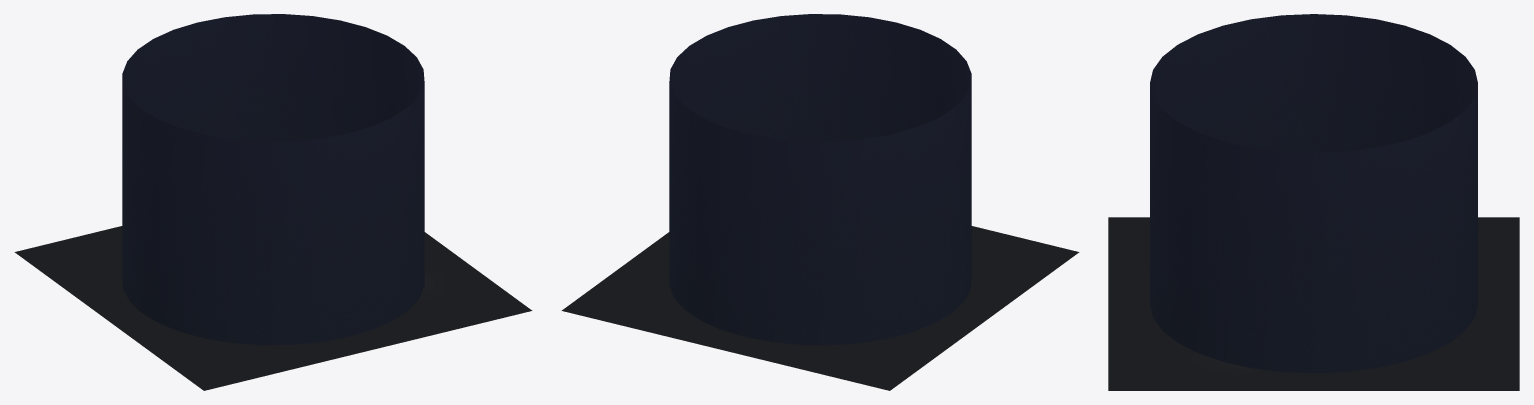
Rendered from dark.glb.
The picture shows the model from 3 angles, left to right: view 1: azimuth 30°, elevation 25°; view 2: azimuth 150°, elevation 25°; view 3: azimuth 270°, elevation 25°; orthographic projection. The views are drawn at different scales.
Parts seen in each view (by area): view 1: BG, Ground_Parking; view 2: BG, Ground_Parking; view 3: BG, Ground_Parking.
Boxes of the visible parts, bbox=[...] form: BG: bbox=[122, 14, 424, 345]; Ground_Parking: bbox=[14, 226, 532, 390]; BG: bbox=[669, 14, 971, 345]; Ground_Parking: bbox=[561, 226, 1079, 390]; BG: bbox=[1150, 14, 1477, 373]; Ground_Parking: bbox=[1108, 217, 1519, 390].
Bounding box in the file's own units: 99.6 × 60 × 99.6.
7 materials, 4 textured.
